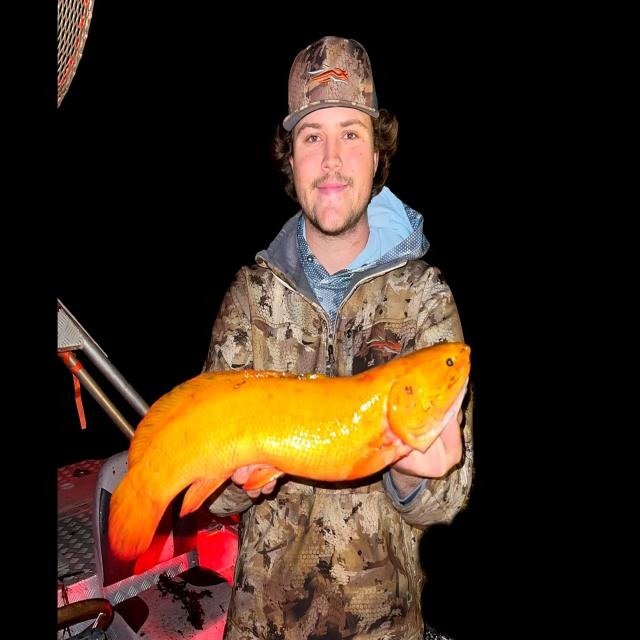Bowfin: (109, 343, 470, 560)
